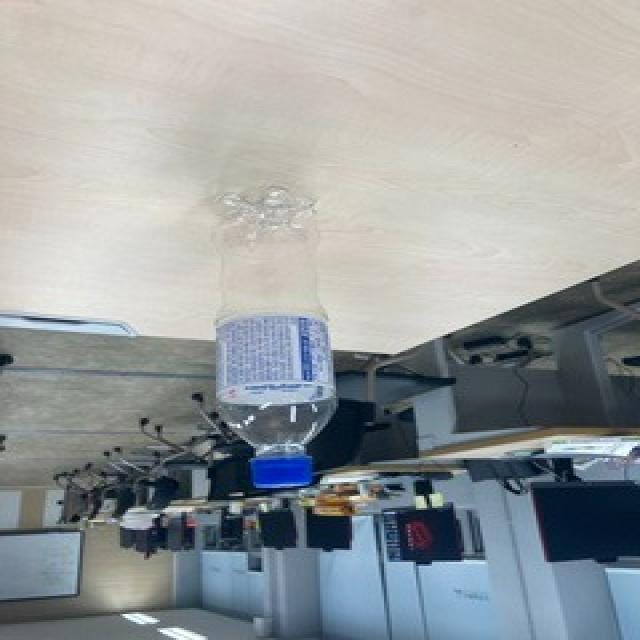good: (210, 177, 340, 497)
